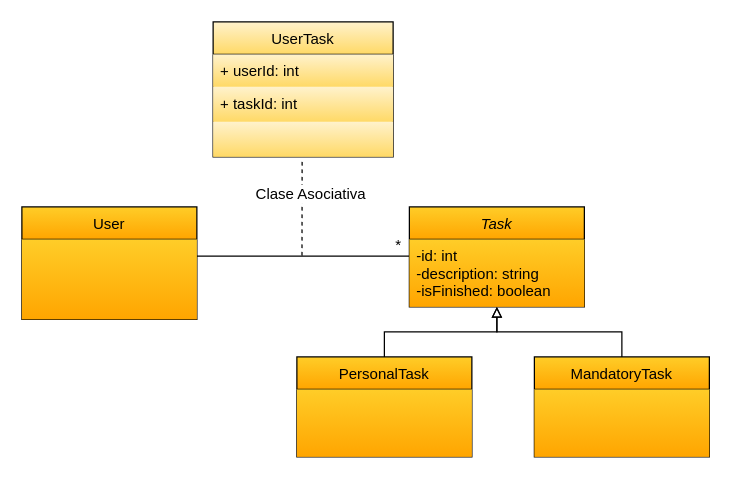
Image size: 731x483. Some labels were removed from this diagram. The centre of each missing label's shape, as x and y in pixels:
+ comments: string [0..1]: (302,138)
-dueDate: Date -priority: PriorityType …: (621,422)
-id: int -name: string -password: string …: (108,279)
-place: string -duration: int …: (383,422)
